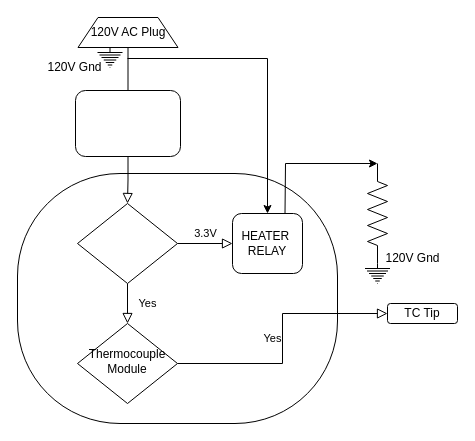
Image size: 475x441. Some labels were removed from this diagram. Each missing label, with the centre of its shape:
"COMMAND" goes at point (127, 243).
"POWER CONVERTER (120AC-12VDC)" goes at point (127, 123).
